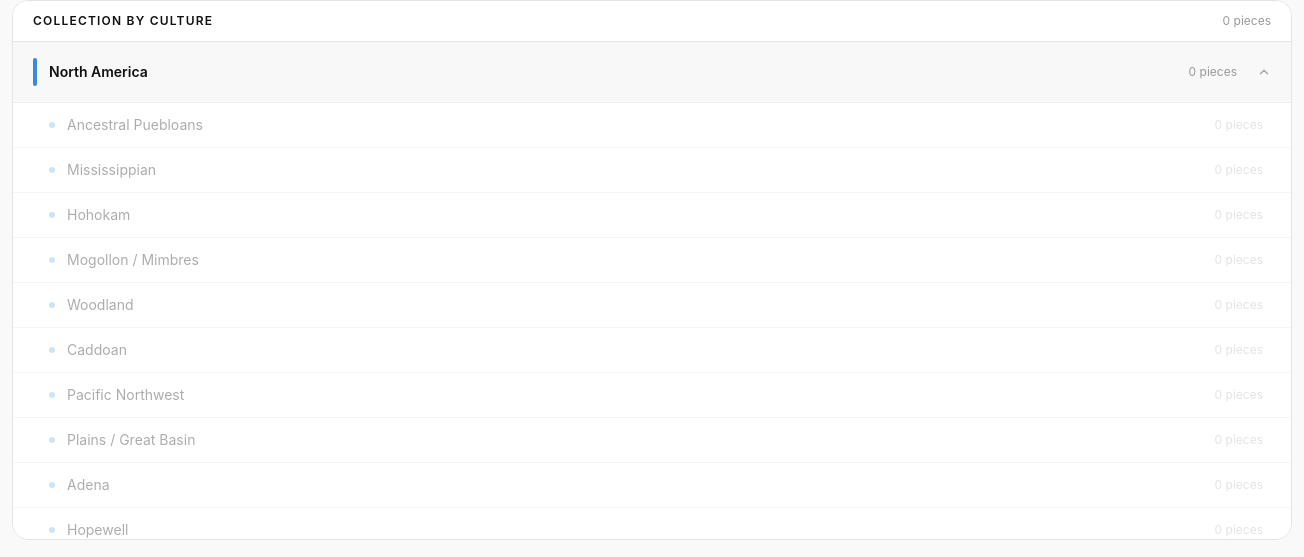
InventoryTree › collapses a region on click, hiding its cultures
The width and height of the screenshot is (1304, 557).
Click the text "North America".
click(98, 72)  # box [49,63,148,80]
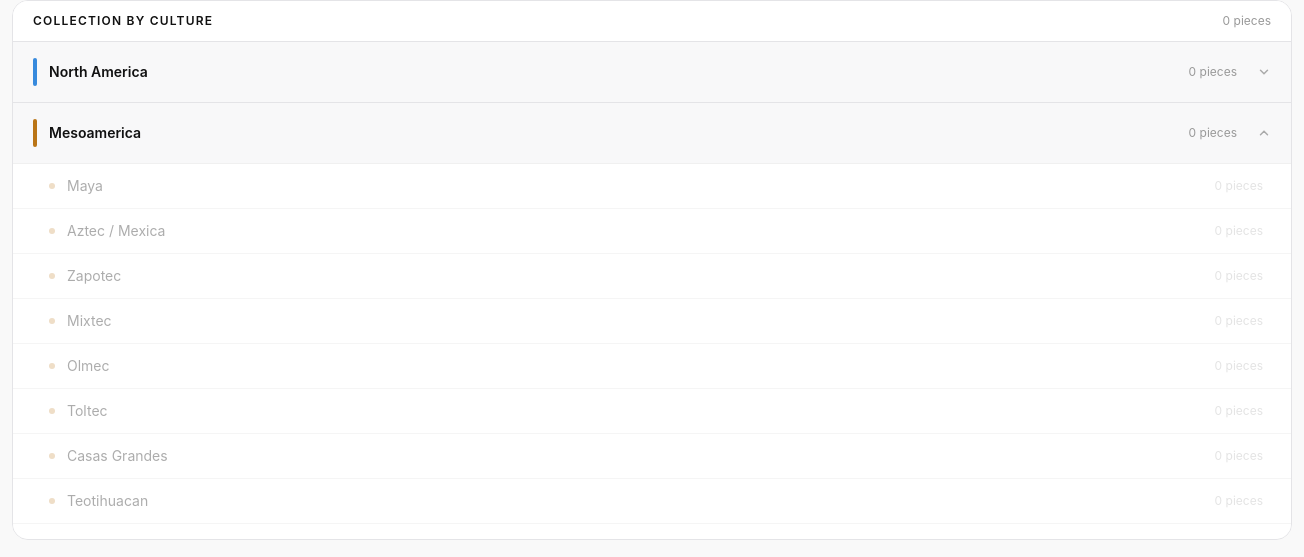
Result: the button "Mississippian" is gone
